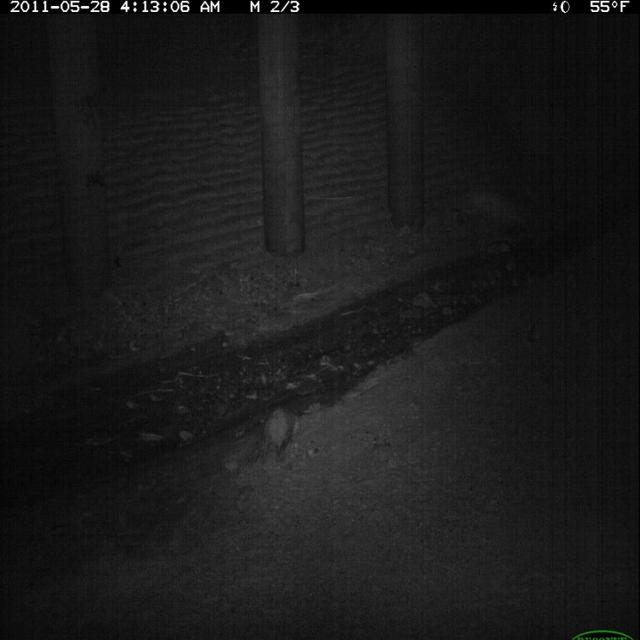opossum: (251, 404, 305, 468)
